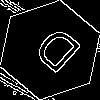D: (25, 25, 84, 83)
